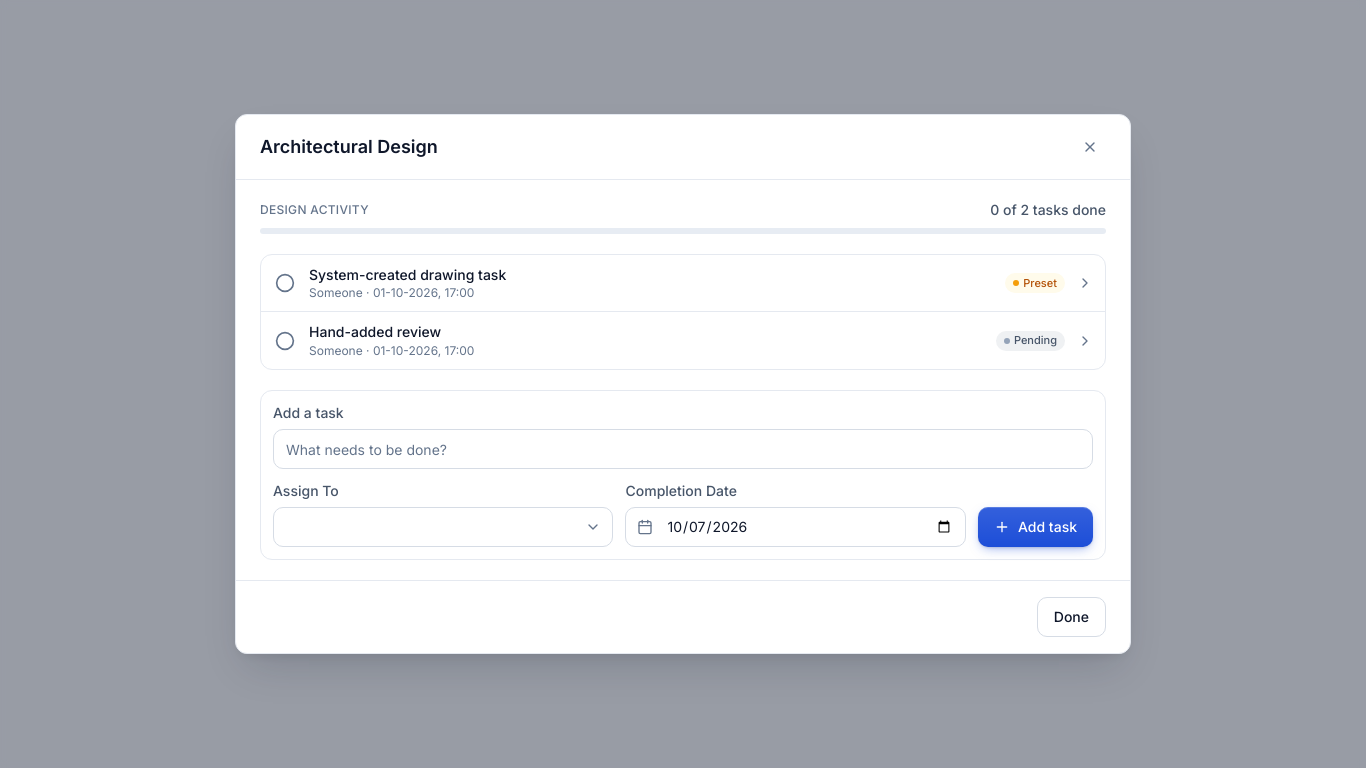
ServiceTasksDialog › opens a task in the editor inside the modal and goes back to the list
The image size is (1366, 768).
Click the button "Hand-added review Someone · 01-10-2026, 17:00 Pending" at [375, 332], box [309,322,1093,359]
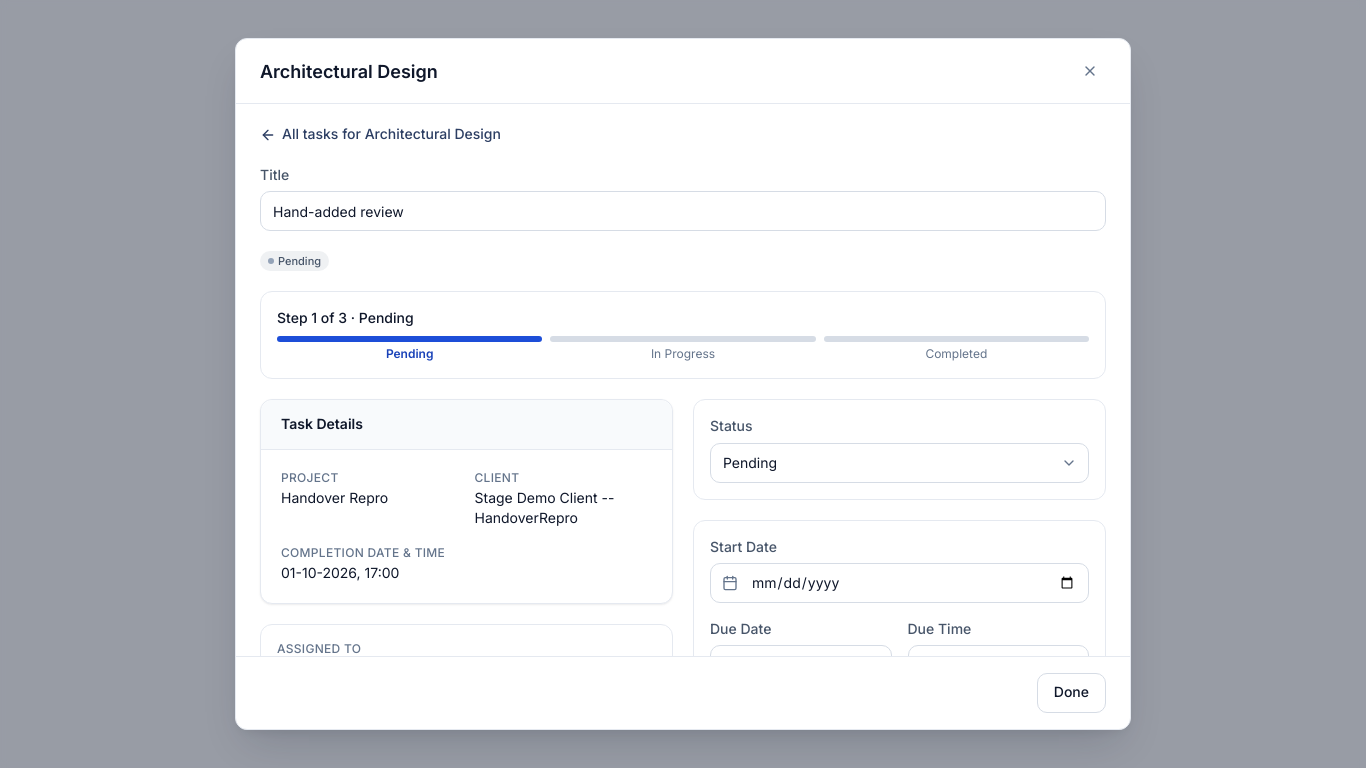
Expected: the text "All tasks for Architectural Design" is shown
Click the button "All tasks for Architectural Design" at [380, 135], box [260,124,501,145]
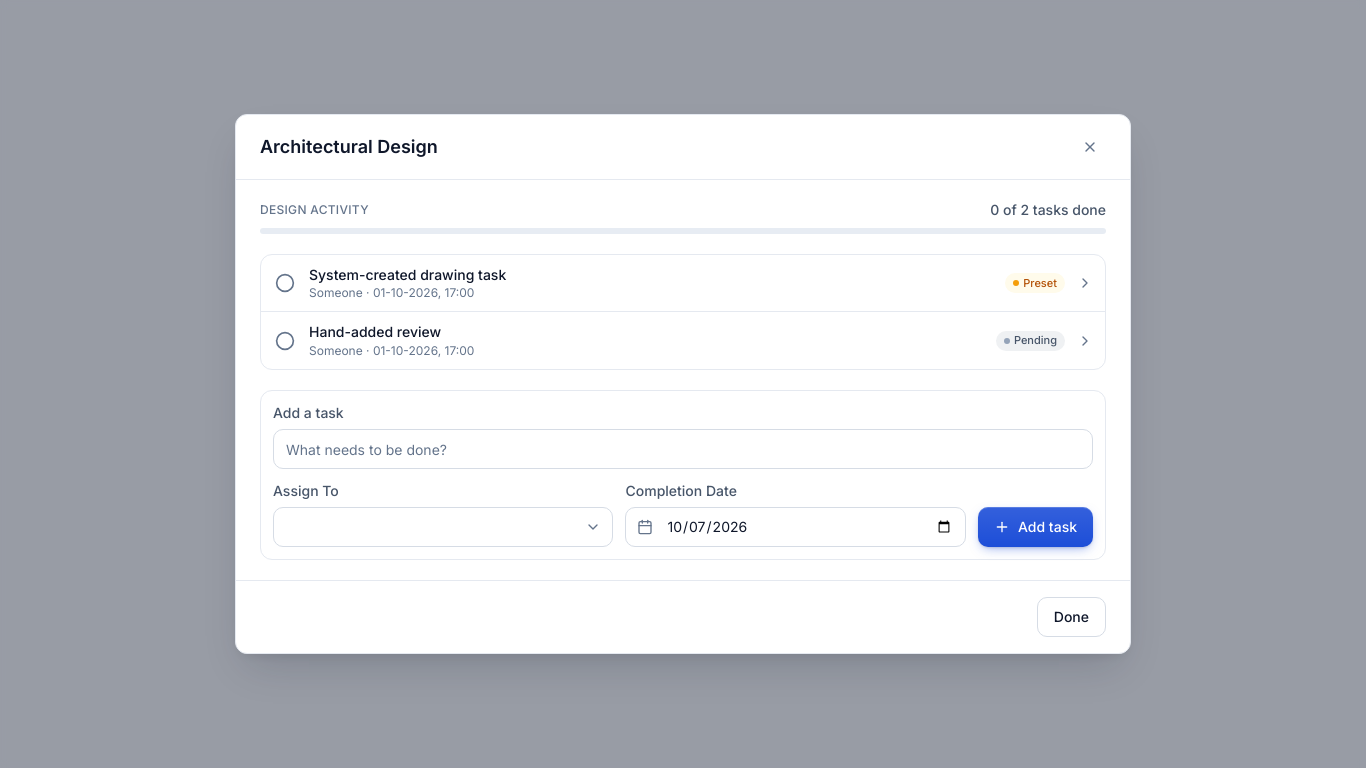
Expected: the text "0 of 2 tasks done" is shown, [990,200,1106,220]
